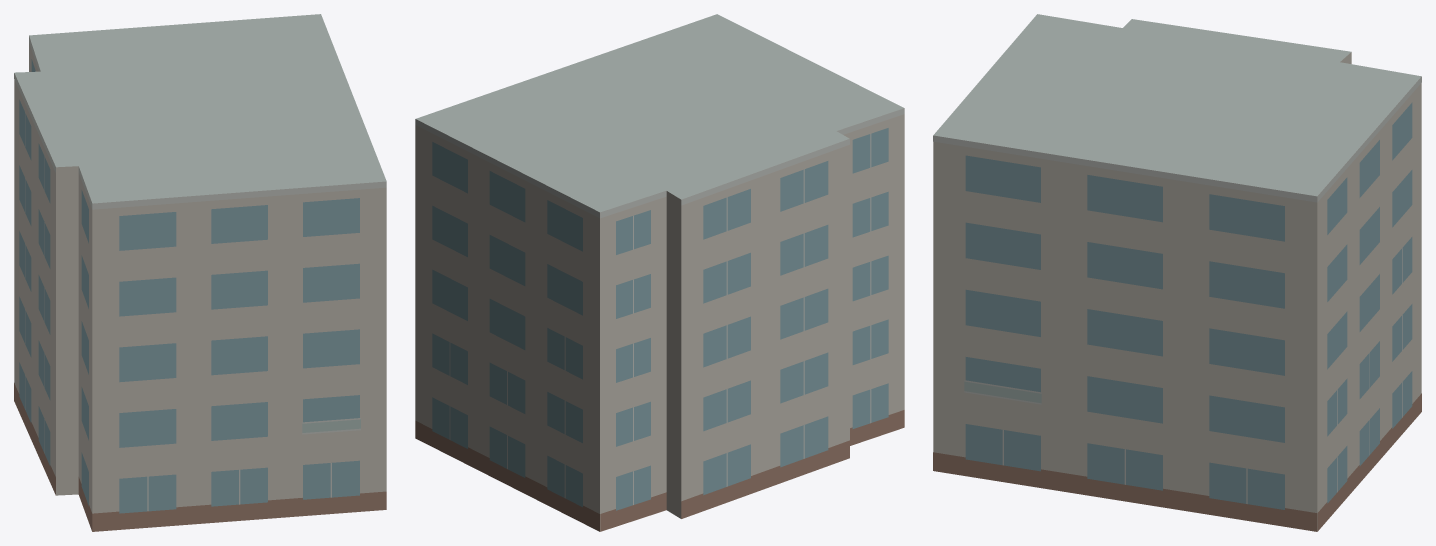
Rendered from survey-upis-32891746.glb.
The picture shows the model from 3 angles, left to right: view 1: azimuth 30°, elevation 25°; view 2: azimuth 150°, elevation 25°; view 3: azimuth 270°, elevation 25°; orthographic projection. The views are drawn at different scales.
Parts seen in each view (by area): view 1: survey-upis-32891746.tmp; view 2: survey-upis-32891746.tmp; view 3: survey-upis-32891746.tmp.
Part boxes in pixels (x1,y1,x2,y2): survey-upis-32891746.tmp: (14,14,386,531); survey-upis-32891746.tmp: (415,14,904,531); survey-upis-32891746.tmp: (933,14,1421,531).
Size of the model in its own units: 15.28 by 13.1 by 17.3.
